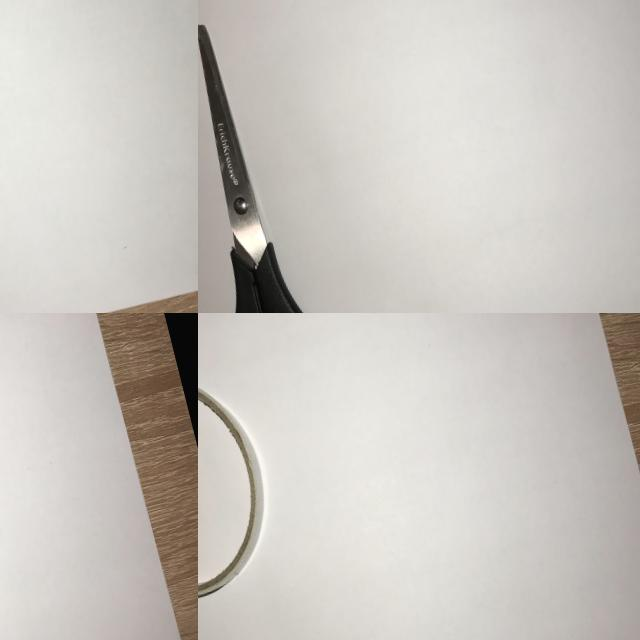scissors: (198, 4, 364, 313)
scotch: (198, 349, 295, 623)
